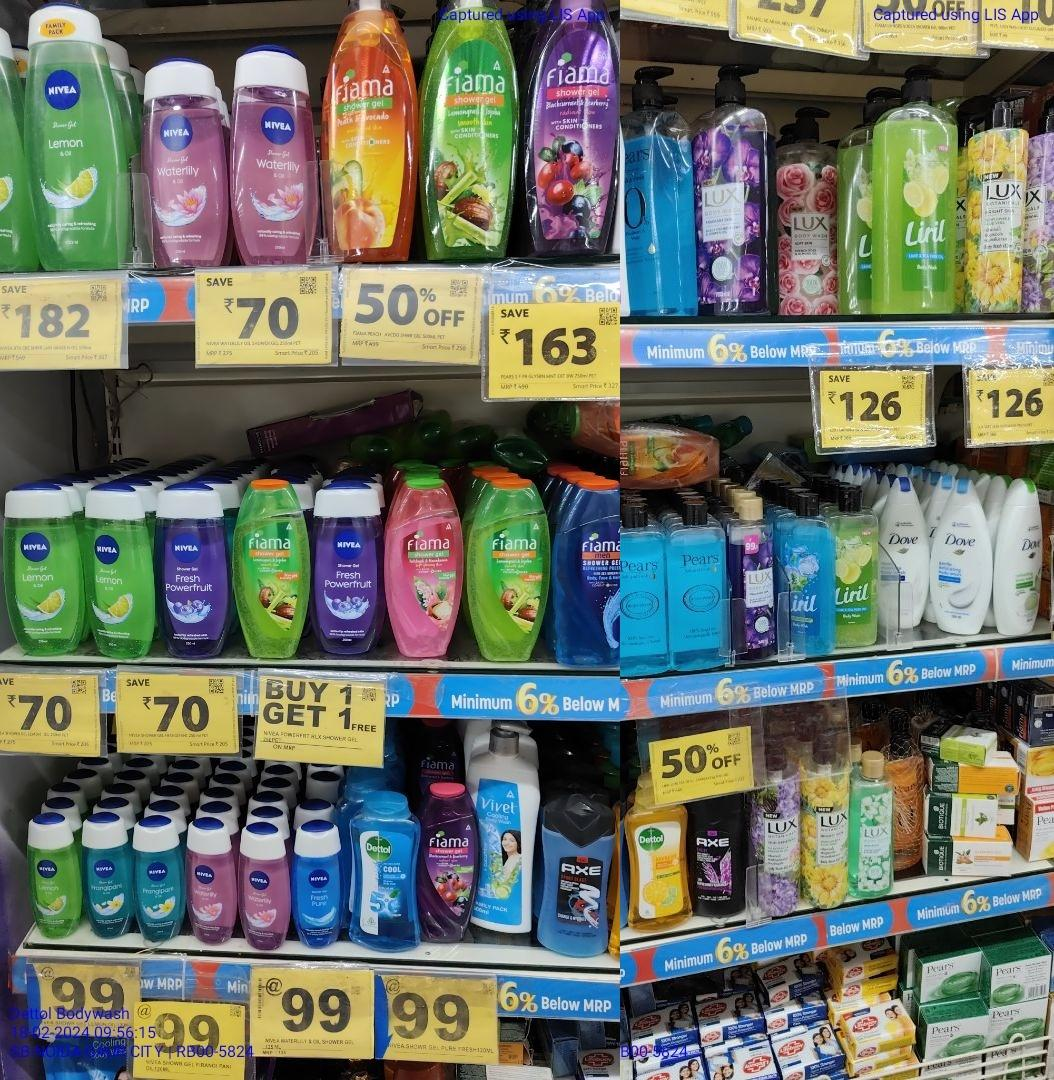Dettol_Bodywash_Cool: (348, 791, 424, 956)
Dettol_Bodywash_Refresh: (629, 781, 692, 933)
Dove_Deep_Moisture_Body_Wash_250ML: (877, 473, 929, 631)
Dove_Gentle_Exfoliating_Body_Wash_250ML: (933, 478, 992, 635)
Dove_Refreshing_Body_Wash_250ML: (997, 479, 1040, 633)
Fiama_Shower_Gel_Lemongrass_and_Jojoba_250ML: (466, 477, 551, 667), (235, 479, 306, 661)
Fiama_Shower_Gel_Patchouli_and_Macadamia_250ML: (382, 477, 456, 658)
Liril_Cooling_Mint_Body_Wash_250ML: (784, 497, 834, 656)
Liril_Lime_and_Tea_Tree_Oil_Body_Wash_250ML: (837, 489, 876, 650)
Lux_Black_Orchid_Scent_and_Juniper_Oil_Body_Wash_245ML: (727, 493, 777, 663)
Lux_Body_Wash_Skin_Detox_Freesia_Scent_and_Alove_Vera_245ML: (847, 749, 896, 894)
Nivea_Shower_Gel_Fresh_Powerfruit_250ML: (156, 480, 229, 658), (313, 477, 380, 660)
Nivea_Shower_Gel_Lemon_and_Oil_250ML: (24, 5, 131, 273), (2, 487, 82, 656), (87, 482, 151, 654)
Nivea_Shower_Gel_Waterlily_and_Oil_250ML: (138, 50, 226, 266), (227, 45, 314, 260)
Pears_Pure_Glycerin_and_Mint_Extracts_Body_Wash_250ML: (673, 497, 726, 669), (621, 507, 670, 678)
